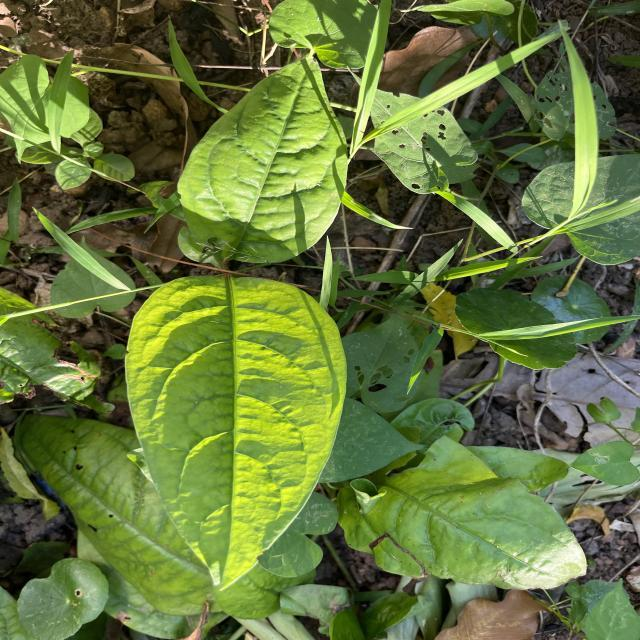Plumbago indica: (121, 272, 347, 592), (337, 436, 590, 597), (172, 52, 353, 268)
